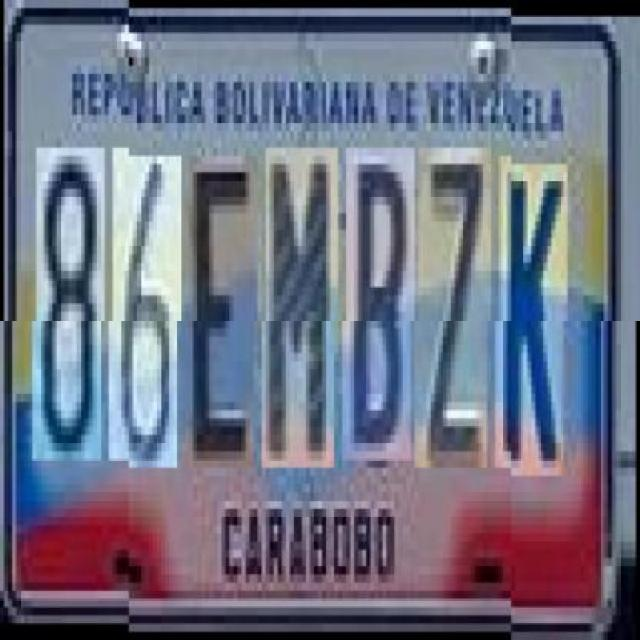6: (112, 156, 182, 469)
8: (36, 156, 106, 469)
b: (347, 148, 415, 460)
e: (190, 156, 258, 469)
k: (500, 156, 568, 469)
m: (266, 148, 340, 468)
z: (418, 148, 492, 468)
